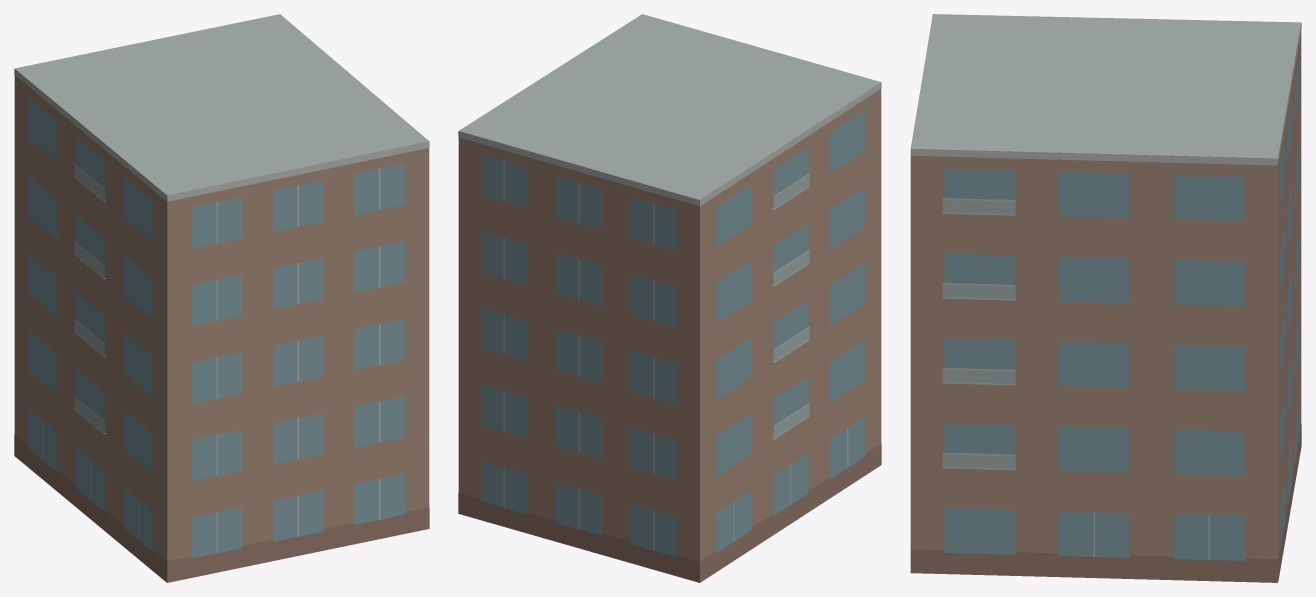
Rendered from survey-upis-32764721.glb.
The picture shows the model from 3 angles, left to right: view 1: azimuth 30°, elevation 25°; view 2: azimuth 150°, elevation 25°; view 3: azimuth 270°, elevation 25°; orthographic projection. The views are drawn at different scales.
Visible parts, largest first — view 1: survey-upis-32764721.tmp; view 2: survey-upis-32764721.tmp; view 3: survey-upis-32764721.tmp.
Boxes of the visible parts, x1,y1,x2,y2 form: survey-upis-32764721.tmp: (14,14,429,582); survey-upis-32764721.tmp: (458,14,881,582); survey-upis-32764721.tmp: (910,14,1301,582).
Size of the model in its own units: 10.75 by 14.7 by 12.28.
